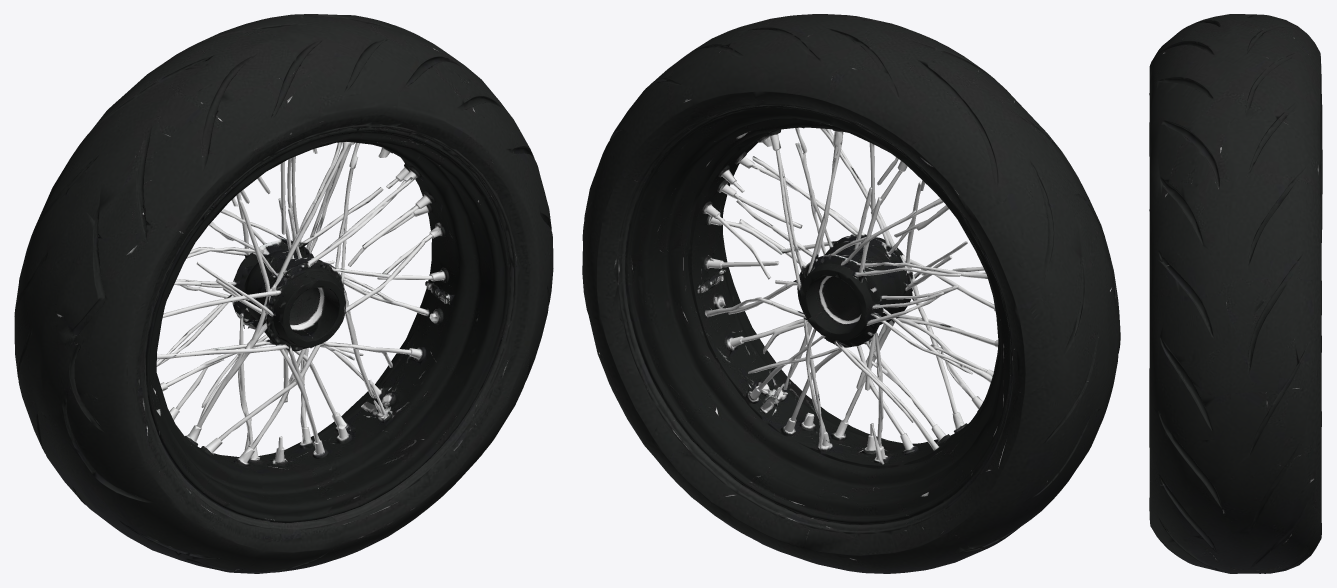
Rendered from Meshy_AI_Motorcycle_Wheel_20261118_texture_41460tris.glb.
The picture shows the model from 3 angles, left to right: view 1: azimuth 30°, elevation 25°; view 2: azimuth 150°, elevation 25°; view 3: azimuth 270°, elevation 25°; orthographic projection. The views are drawn at different scales.
Parts seen in each view (by area): view 1: Mesh_0; view 2: Mesh_0; view 3: Mesh_0.
Part boxes in pixels (<box>): Mesh_0: <box>14,14,553,573</box>; Mesh_0: <box>582,14,1120,573</box>; Mesh_0: <box>1149,14,1322,573</box>.
Bounding box in the file's own units: 190 × 190 × 58.9.
1 material, 1 textured.
